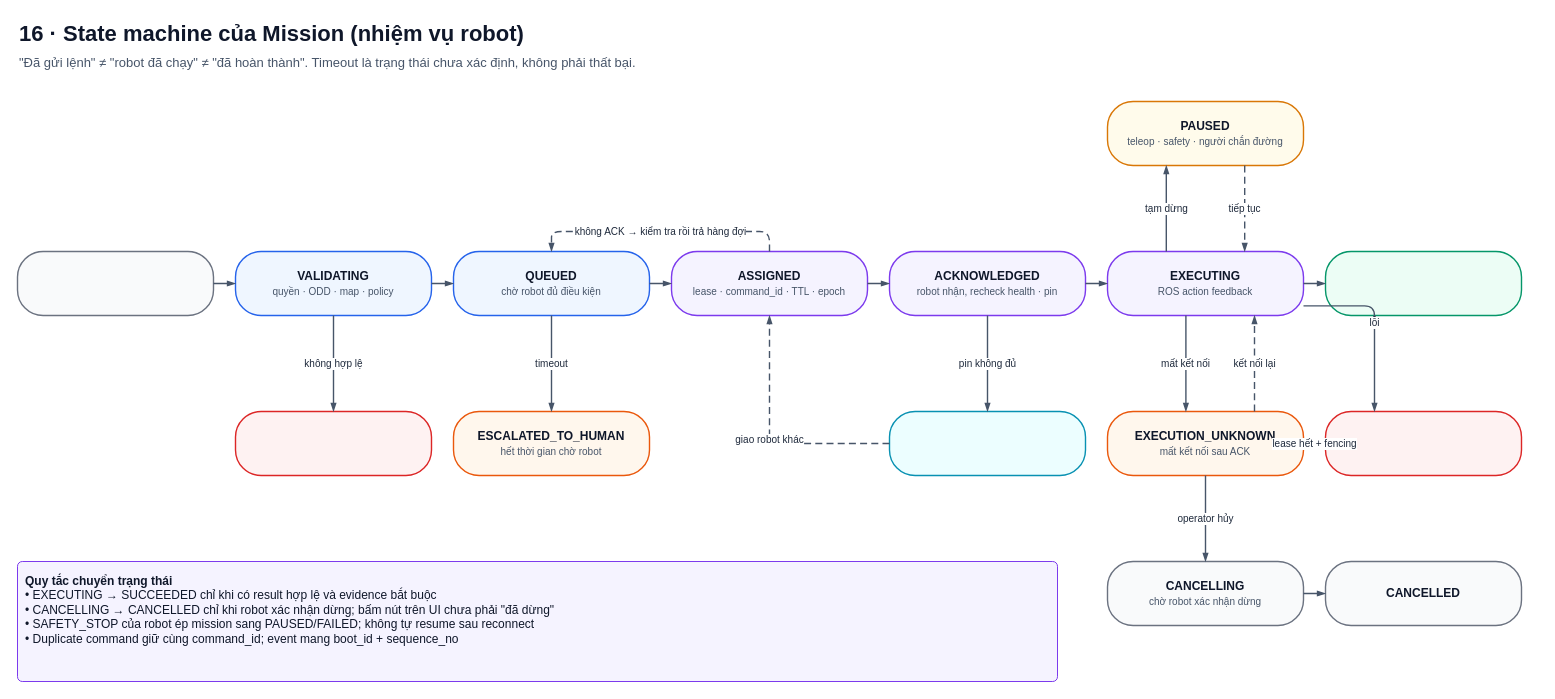
This 1555x699 diagram has some shape labels left out. Each missing label, with the centre of its shape:
"DRAFT operator / workflow tạo" belongs at [115,283].
"FAILED abort reason · bằng chứng" belongs at [1423,443].
"HANDED_OVER năng lượng không đủ → robot khác" belongs at [987,443].
"REJECTED OUTSIDE_ODD · FORBIDDEN" belongs at [333,443].
"SUCCEEDED result + evidence hợp lệ" belongs at [1423,283].
